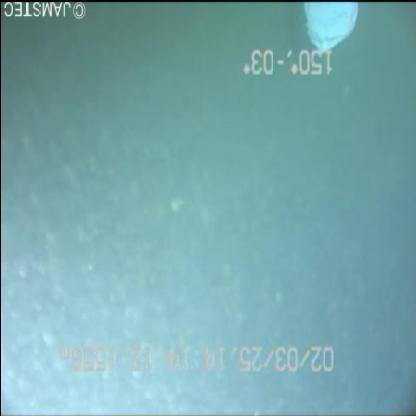Rác: (300, 1, 359, 69)
